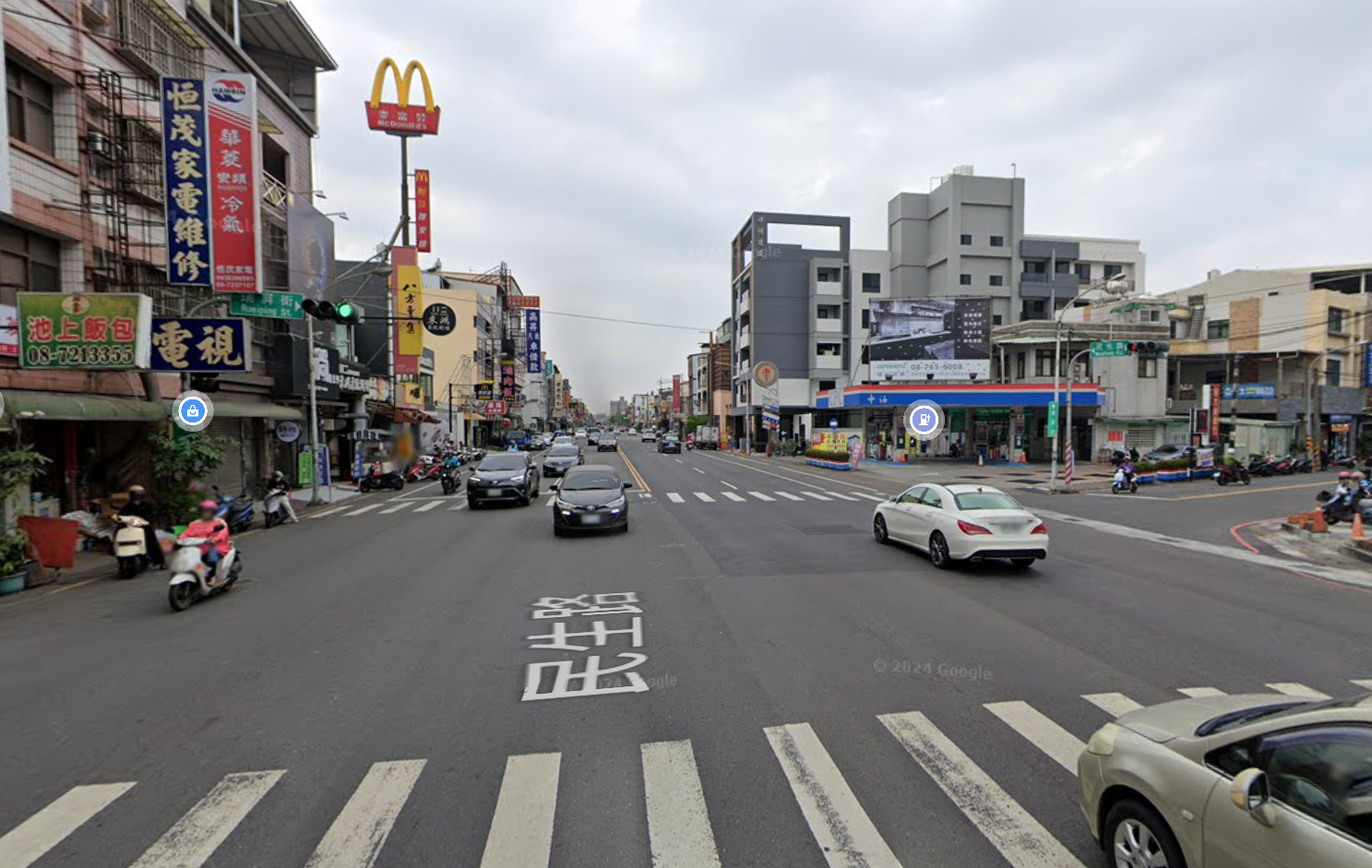green: (301, 296, 358, 324)
